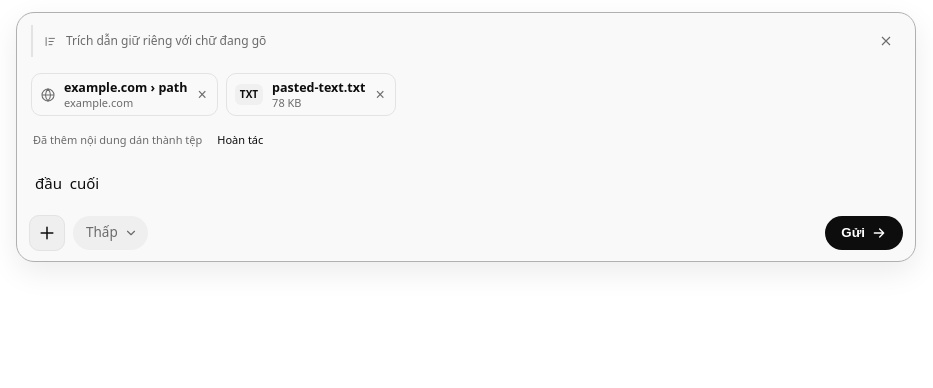
Test case: long paste conversion › converts a selected range, preserving surrounding draft and links; Undo restores native paste text/caret
Expected: the text box named "Nhắn cho Peto" holds "đầu  cuối", [29,163,903,207]
Expected: the text "Trích dẫn giữ riêng với chữ đang gõ" is shown, [66,32,266,50]
Click the button "Hoàn tác". click: (240, 141)
box: [210,128,270,153]
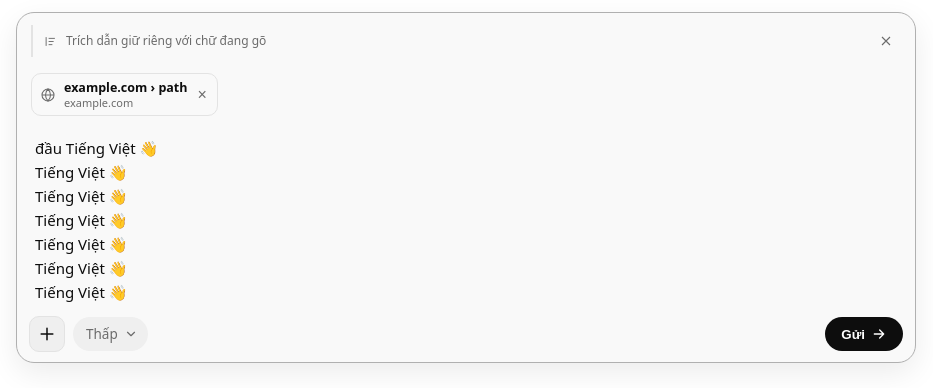
Expected: the text "Đã thêm nội dung dán thành tệp" is gone
